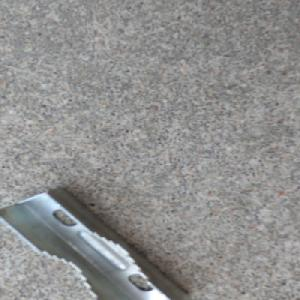ClampPart: (0, 187, 186, 300)
